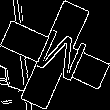M_SW: (23, 23, 87, 87)
